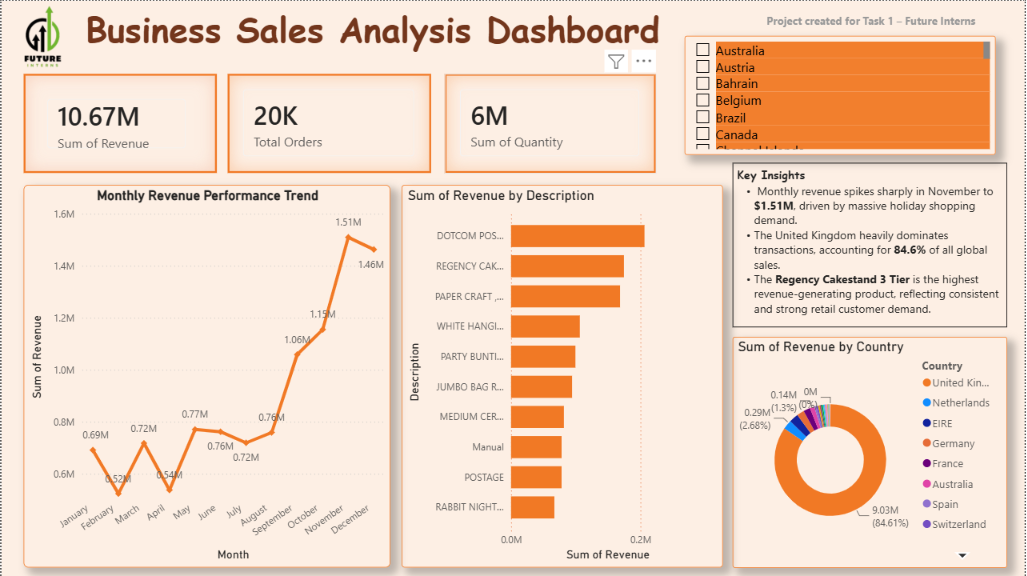

The dashboard page shown, as its layout file describes it:
{"tool":"powerbi","page":{"name":"Page 1","canvas":[1280,720],"ordinal":0},"visuals":[{"type":"cardVisual","fields":{"Data":["Sum(online_retail.Quantity)"]},"box":[554.3,91.4,264.3,124.3],"z":0},{"type":"cardVisual","fields":{"Data":["online_retail.Total Orders"]},"box":[282.9,91.4,254.3,124.3],"z":1000},{"type":"lineChart","title":"Monthly Revenue Performance Trend","fields":{"Category":["online_retail.InvoiceDate.Variation.Date Hierarchy.Year","online_retail.InvoiceDate.Variation.Date Hierarchy.Quarter","online_retail.InvoiceDate.Variation.Date Hierarchy.Month","online_retail.InvoiceDate.Variation.Date Hierarchy.Day"],"Y":["Sum(online_retail.Revenue)"]},"box":[27.1,230,458.6,478.6],"z":2000},{"type":"clusteredBarChart","fields":{"Category":["online_retail.Description"],"Y":["Sum(online_retail.Revenue)"]},"box":[500,230,401.4,478.6],"z":3000},{"type":"donutChart","fields":{"Category":["online_retail.Country"],"Y":["Sum(online_retail.Revenue)"]},"box":[914.3,420,342.9,288.6],"z":4000},{"type":"slicer","fields":{"Values":["online_retail.Country"]},"box":[854.3,44.3,388.6,148.6],"z":5000},{"type":"textbox","box":[100,0,784.3,81.4],"z":6000},{"type":"image","box":[0,0,100,90],"z":7000},{"type":"cardVisual","fields":{"Data":["Sum(online_retail.Revenue)"]},"box":[27,91.4,241.4,124.3],"z":8000},{"type":"textbox","box":[914.3,202.9,342.9,205.7],"z":8001},{"type":"textbox","box":[951.4,11.4,291.4,30],"z":8002}]}

Visuals, with their boxes in screenshot pixels (x1, y1, x2, y2), scaled from the page's 1280x720 canvas onto the 1027x576 screenshot:
cardVisual - Sum(online_retail.Quantity): <box>445,73,657,173</box>
cardVisual - online_retail.Total Orders: <box>227,73,431,173</box>
"Monthly Revenue Performance Trend" lineChart: <box>22,184,390,567</box>
clusteredBarChart - online_retail.Description x Sum(online_retail.Revenue): <box>401,184,723,567</box>
donutChart - online_retail.Country x Sum(online_retail.Revenue): <box>734,336,1009,567</box>
slicer - online_retail.Country: <box>685,35,997,154</box>
textbox: <box>80,0,710,65</box>
image: <box>0,0,80,72</box>
cardVisual - Sum(online_retail.Revenue): <box>22,73,215,173</box>
textbox: <box>734,162,1009,327</box>
textbox: <box>763,9,997,33</box>
